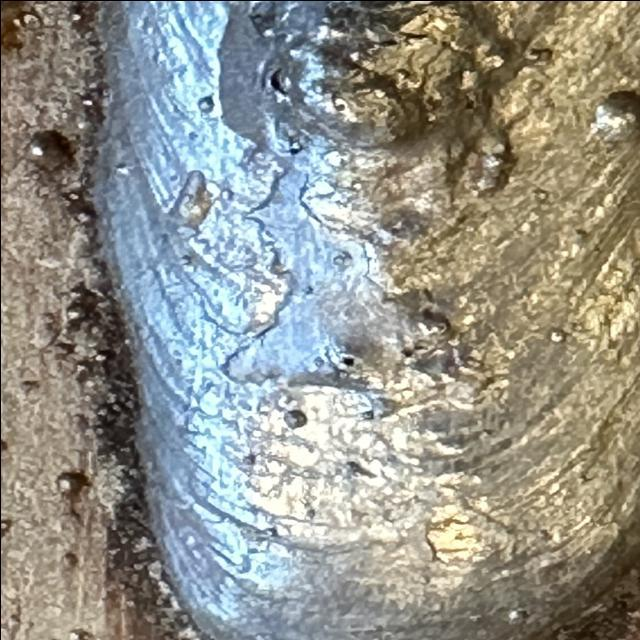Excess Reinforcement: (82, 444, 158, 572), (48, 282, 130, 382)
Spatters: (170, 170, 210, 230), (592, 91, 640, 140), (27, 131, 72, 170), (7, 3, 42, 28), (55, 472, 88, 492), (282, 409, 307, 429), (332, 251, 352, 270), (258, 526, 280, 540), (60, 552, 78, 569), (507, 608, 527, 622), (197, 95, 213, 112), (68, 629, 92, 640), (68, 0, 80, 20), (0, 519, 12, 538), (548, 329, 565, 342), (242, 454, 255, 465), (178, 254, 191, 265)
